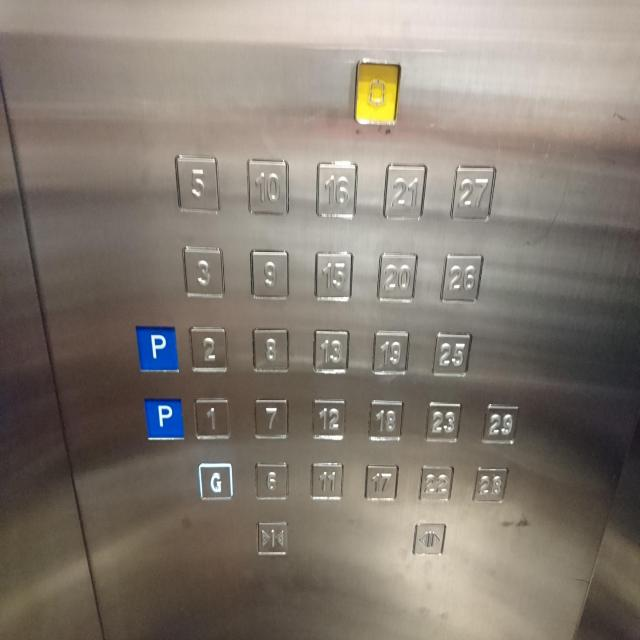1: (192, 395, 232, 441)
10: (244, 156, 290, 217)
11: (308, 460, 345, 501)
12: (310, 396, 348, 442)
13: (310, 327, 351, 375)
15: (312, 250, 354, 304)
16: (312, 159, 360, 221)
17: (364, 463, 400, 503)
18: (368, 398, 404, 442)
19: (370, 328, 410, 376)
2: (188, 325, 228, 372)
20: (374, 251, 420, 304)
21: (380, 163, 430, 223)
22: (417, 466, 454, 502)
23: (425, 398, 462, 442)
25: (432, 330, 472, 378)
26: (437, 252, 484, 306)
27: (447, 163, 497, 223)
28: (472, 467, 508, 503)
29: (482, 402, 520, 447)
3: (181, 243, 227, 300)
5: (173, 152, 220, 214)
6: (253, 460, 290, 500)
7: (253, 397, 290, 440)
8: (251, 326, 291, 374)
9: (250, 247, 290, 299)
G: (197, 462, 236, 500)
P: (135, 322, 180, 373), (142, 396, 185, 440)
alarm: (352, 58, 402, 126)
close: (255, 518, 289, 557)
open: (409, 521, 446, 557)
